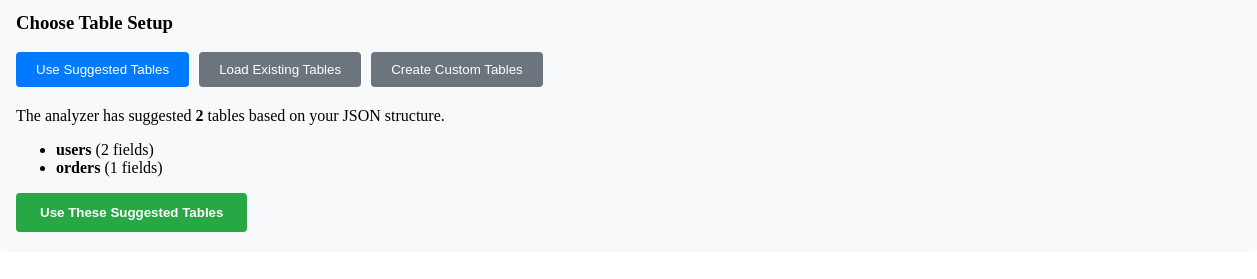
it: TableSelector › should allow selecting existing tables with checkboxes
Click the button "Load Existing Tables": (280, 70) [199,52,361,87]
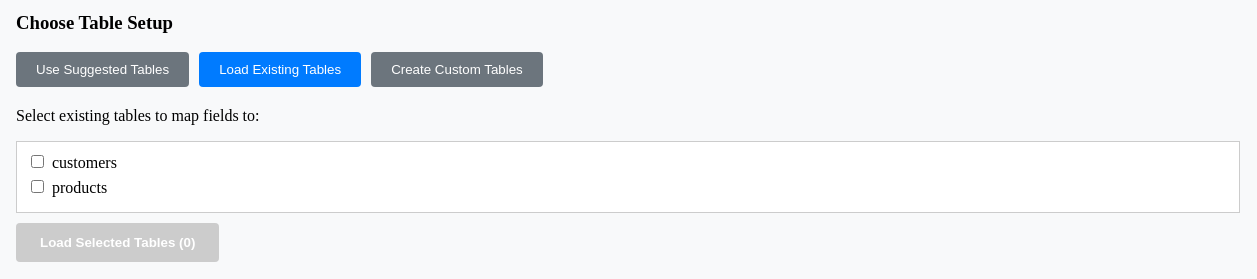
Result: the text "customers" is shown at [31,154,117,171]
Click the checkbox labelled "customers": (38, 162) [31,155,44,168]
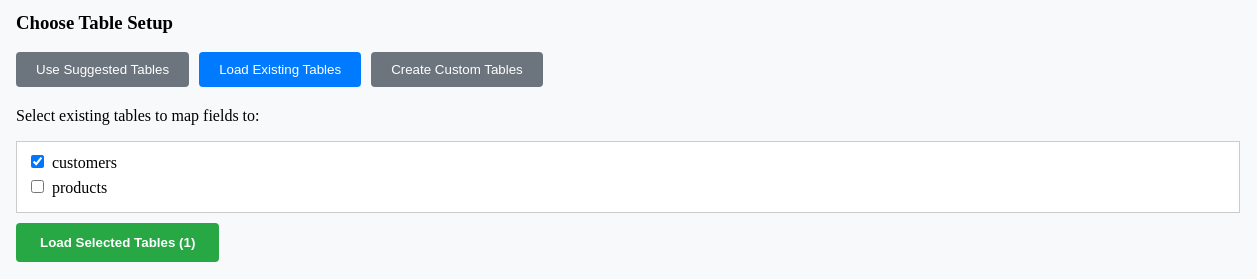
Result: the button "Load Selected Tables (1)" is shown at [16,223,219,262]
